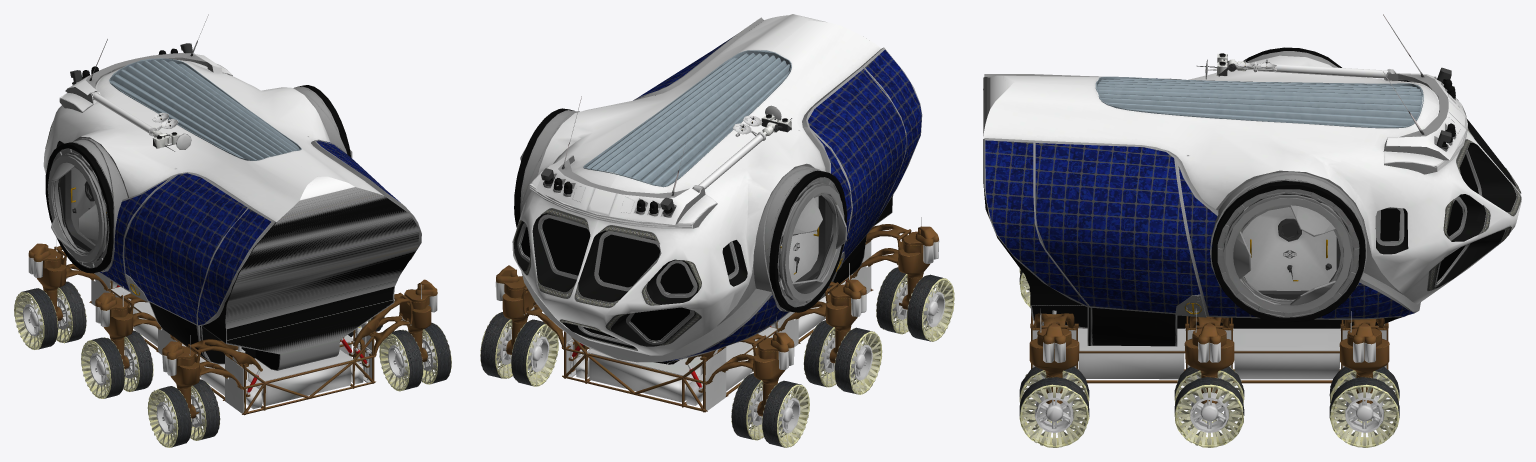
File: nasa-sev.glb
3 renders of one model, left to right at view 1: azimuth 30°, elevation 25°; view 2: azimuth 150°, elevation 25°; view 3: azimuth 270°, elevation 25°, orthographic. The views are drawn at different scales.
Parts seen in each view (by area): view 1: SEV_Hull, WheelShape_5, WheelShape_0, WheelShape_1, WheelShape_2; view 2: SEV_Hull, WheelShape_0, WheelShape_1, WheelShape_3, WheelShape_2; view 3: SEV_Hull, WheelShape_3, WheelShape_5, WheelShape_4.
Part boxes in pixels (bbox=[...]): SEV_Hull: bbox=[28, 14, 437, 415]; WheelShape_5: bbox=[378, 311, 451, 391]; WheelShape_0: bbox=[14, 263, 90, 349]; WheelShape_1: bbox=[81, 312, 156, 398]; WheelShape_2: bbox=[147, 361, 224, 447]; SEV_Hull: bbox=[495, 14, 939, 412]; WheelShape_0: bbox=[726, 354, 809, 447]; WheelShape_1: bbox=[800, 288, 882, 394]; WheelShape_3: bbox=[480, 298, 558, 386]; WheelShape_2: bbox=[876, 248, 954, 341]; SEV_Hull: bbox=[983, 14, 1521, 383]; WheelShape_3: bbox=[1329, 360, 1399, 447]; WheelShape_5: bbox=[1019, 360, 1089, 447]; WheelShape_4: bbox=[1174, 360, 1244, 447].
Bounding box in the file's own units: 2.65 × 2.6 × 3.87.
1 material, 1 textured.
